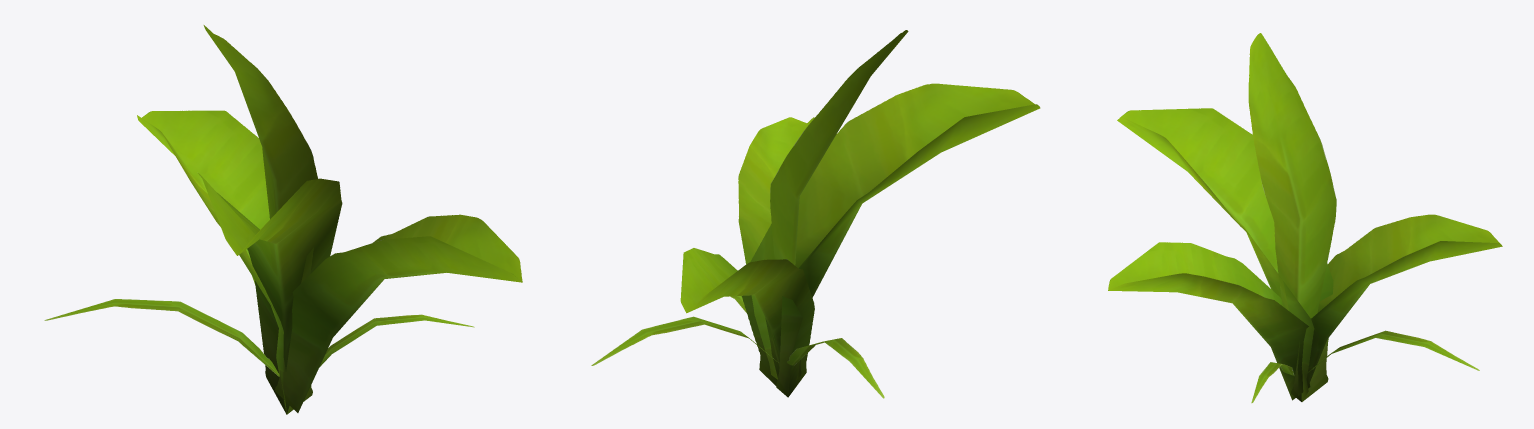
File: SM_Vegetation_08.fbx
3 views of the same model, side by side, from view 1: azimuth 30°, elevation 25°; view 2: azimuth 150°, elevation 25°; view 3: azimuth 270°, elevation 25° (orthographic). The views are drawn at different scales.
Visible parts, largest first — view 1: SM_Vegetation_08_LOD0; view 2: SM_Vegetation_08_LOD0; view 3: SM_Vegetation_08_LOD0.
Boxes of the visible parts, x1,y1,x2,y2 form: SM_Vegetation_08_LOD0: (44,25,522,414); SM_Vegetation_08_LOD0: (591,30,1040,398); SM_Vegetation_08_LOD0: (1108,33,1502,403).
Size of what is drawn, in the model's own units: 0.9849 by 1.15 by 1.3.
